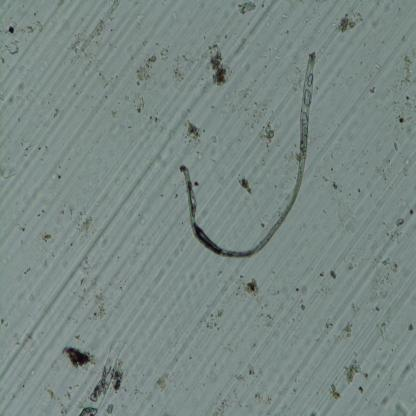Background material: (63, 270, 121, 322), (229, 82, 271, 127), (327, 178, 358, 238), (70, 21, 106, 66), (369, 254, 400, 303), (202, 40, 234, 87), (388, 46, 416, 93), (68, 204, 97, 240), (231, 275, 263, 305), (168, 335, 193, 372), (62, 345, 95, 372), (135, 49, 157, 88), (335, 6, 364, 34), (184, 121, 206, 156), (22, 317, 46, 348), (390, 362, 413, 393), (207, 388, 232, 416), (0, 346, 21, 378), (170, 53, 191, 84), (342, 358, 368, 383), (390, 94, 416, 117), (232, 172, 259, 194), (373, 156, 394, 184), (124, 90, 146, 114), (0, 158, 24, 180), (386, 217, 404, 245), (204, 309, 224, 334), (377, 319, 395, 346), (286, 65, 302, 95), (335, 320, 354, 344), (94, 72, 112, 97), (148, 112, 168, 134), (252, 308, 276, 326), (370, 358, 388, 381), (34, 245, 49, 271), (249, 12, 266, 34), (154, 372, 172, 392), (0, 37, 20, 55), (114, 358, 124, 393), (106, 0, 121, 23), (20, 20, 43, 35), (35, 229, 53, 246), (237, 0, 256, 16), (64, 382, 80, 401), (312, 282, 332, 297), (32, 182, 46, 203), (77, 391, 91, 410), (44, 382, 57, 402), (17, 374, 28, 397), (328, 384, 342, 402), (56, 395, 68, 416), (133, 13, 146, 32), (393, 401, 409, 416), (157, 401, 173, 416), (262, 122, 275, 140), (235, 38, 248, 56), (219, 341, 238, 353), (283, 150, 299, 164), (392, 140, 404, 158), (57, 18, 71, 33), (402, 153, 411, 176), (322, 316, 333, 334), (23, 142, 36, 157), (325, 29, 338, 44), (223, 91, 231, 115), (29, 289, 42, 303), (277, 384, 290, 398), (321, 401, 333, 416), (12, 94, 24, 109), (391, 124, 403, 139), (27, 88, 38, 104), (134, 388, 150, 399), (45, 90, 56, 106), (180, 106, 192, 120), (290, 375, 298, 396), (395, 198, 407, 212), (364, 66, 374, 82), (0, 253, 13, 265), (403, 125, 415, 138), (388, 364, 395, 386), (170, 7, 179, 24), (329, 269, 341, 281), (381, 394, 392, 407), (4, 25, 17, 36), (158, 48, 168, 62), (253, 390, 263, 404), (12, 331, 22, 345), (381, 0, 392, 12), (370, 19, 382, 30), (297, 44, 307, 57), (372, 57, 382, 70), (18, 205, 28, 218), (290, 51, 300, 64), (138, 215, 148, 227), (298, 302, 308, 314), (108, 109, 120, 119), (16, 80, 26, 92), (350, 301, 360, 313), (394, 114, 406, 124), (20, 238, 28, 253), (209, 133, 218, 146), (247, 364, 256, 377), (106, 402, 115, 415), (278, 27, 291, 36), (272, 118, 282, 129), (316, 45, 326, 56), (346, 77, 356, 88), (51, 170, 61, 181), (16, 222, 27, 232), (50, 359, 60, 370), (54, 108, 64, 119), (206, 372, 218, 381), (370, 0, 380, 10), (317, 269, 326, 280), (234, 374, 245, 383), (0, 316, 9, 327), (5, 129, 12, 143), (232, 388, 240, 400), (370, 84, 378, 96), (370, 305, 382, 313), (80, 69, 90, 78), (144, 158, 152, 169), (260, 156, 268, 167), (370, 241, 378, 252), (18, 63, 26, 74), (48, 248, 56, 259), (359, 148, 370, 156), (400, 32, 408, 43), (364, 232, 373, 241), (263, 20, 272, 29), (27, 368, 36, 377), (302, 15, 310, 25), (42, 58, 49, 69), (295, 285, 302, 296), (409, 404, 416, 415), (405, 117, 416, 124), (328, 80, 337, 88), (312, 336, 322, 343), (358, 384, 365, 394), (409, 207, 416, 217), (381, 352, 388, 362), (265, 396, 272, 406), (325, 50, 332, 60), (0, 54, 6, 65), (274, 54, 282, 62), (23, 267, 31, 275), (321, 174, 329, 182), (309, 409, 318, 416), (288, 0, 294, 10), (8, 96, 14, 106), (54, 3, 64, 9), (0, 91, 6, 101), (281, 182, 288, 190), (282, 12, 290, 19), (266, 12, 274, 19), (217, 271, 225, 277), (260, 0, 266, 8), (274, 73, 282, 79), (273, 45, 279, 53), (271, 86, 279, 92), (236, 402, 242, 410), (362, 42, 368, 50), (126, 126, 135, 131), (267, 1, 272, 10), (25, 194, 30, 203), (410, 396, 416, 403), (74, 334, 81, 340), (380, 38, 386, 45), (387, 184, 393, 191), (35, 211, 41, 218), (264, 63, 268, 72), (34, 10, 40, 16), (45, 144, 49, 153), (353, 351, 358, 358), (120, 404, 127, 409), (258, 367, 262, 375), (312, 10, 316, 18), (317, 17, 321, 25), (322, 208, 327, 214), (409, 325, 414, 331), (16, 116, 20, 123), (252, 340, 256, 347), (223, 35, 228, 40), (41, 209, 46, 214), (123, 387, 127, 393), (238, 359, 242, 365), (360, 172, 364, 178), (21, 140, 24, 147), (210, 104, 214, 109), (284, 172, 289, 176), (39, 158, 44, 162), (188, 356, 192, 361), (331, 24, 336, 28), (365, 160, 369, 165), (330, 166, 334, 171), (202, 382, 205, 388), (82, 340, 86, 344), (38, 146, 42, 150), (317, 30, 321, 34), (358, 188, 361, 193), (67, 30, 70, 35), (214, 362, 217, 366), (7, 157, 10, 161), (174, 384, 177, 388), (304, 62, 306, 68), (346, 166, 349, 170), (325, 76, 327, 81), (185, 388, 188, 391), (341, 164, 344, 167), (58, 166, 61, 169), (334, 170, 336, 174)
Cellulose filter fibre: (78, 342, 130, 416)
Microfibre: (177, 52, 313, 260)
